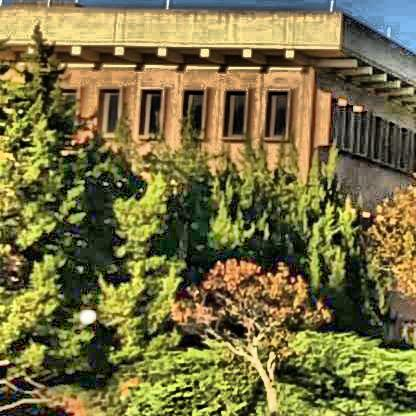golfball: (76, 306, 95, 321)
